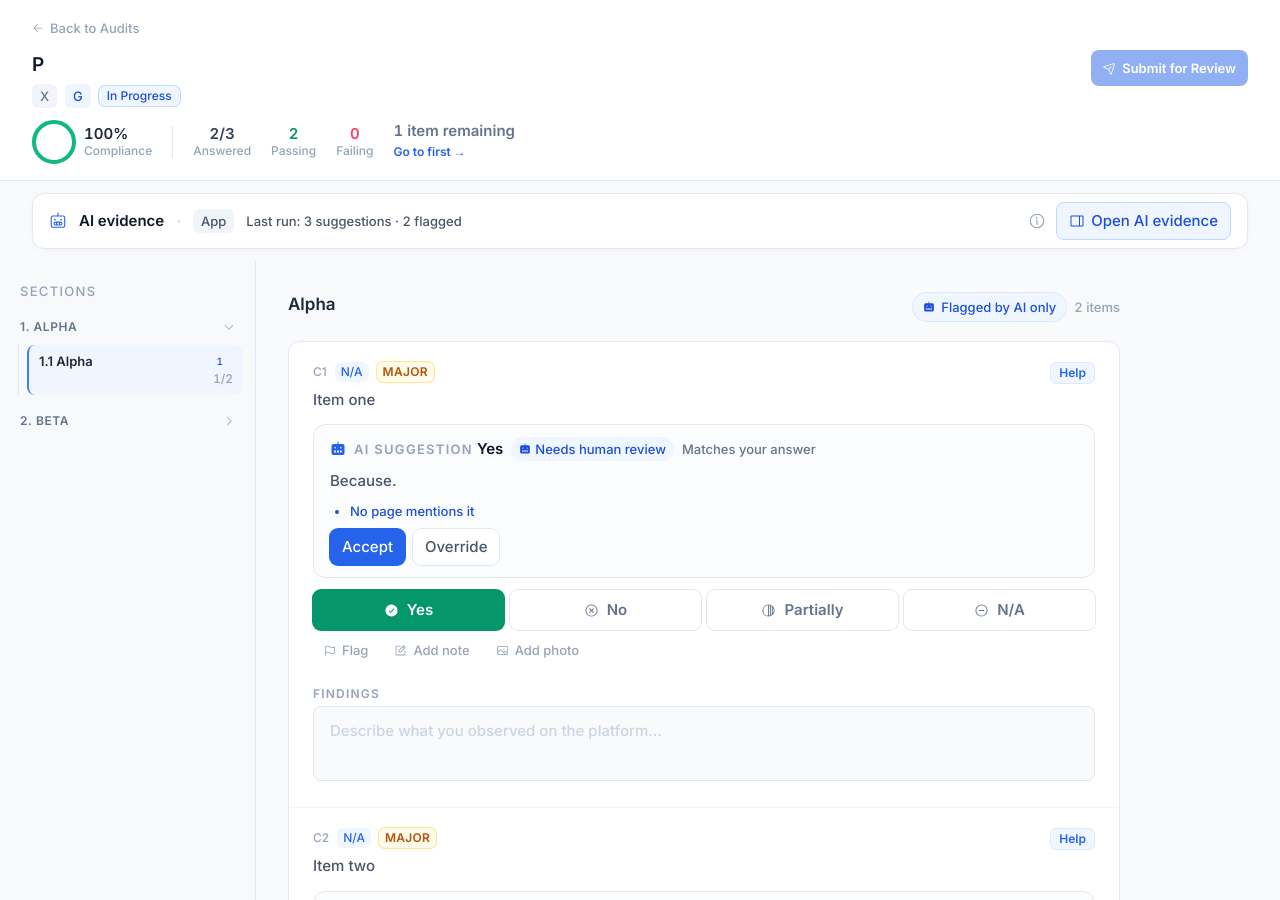
Scenario: flagged filter, counts and provenance on the audit page › leaves progress and Submit alone while it is on
Expected: the text "Item two" is shown, top-left (313, 856), bottom-right (375, 875)
Expected: the button "Submit for Review" is disabled, top-left (1091, 50), bottom-right (1248, 86)
Click the button "Flagged by AI only" at (990, 307), box top-left (913, 293), bottom-right (1066, 321)
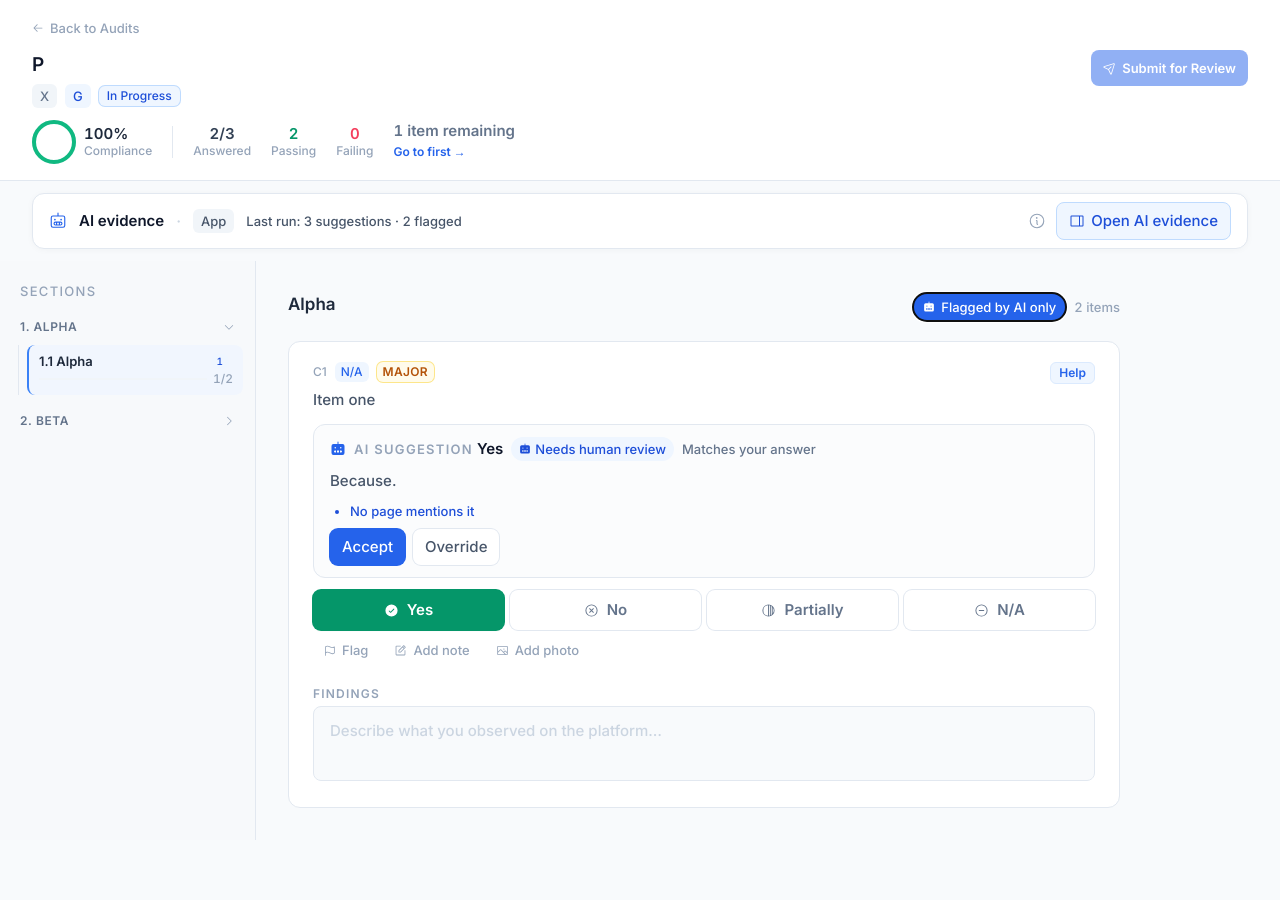
Expected: the button "Submit for Review" is disabled, top-left (1091, 50), bottom-right (1248, 86)
Result: the text "Item two" is gone
